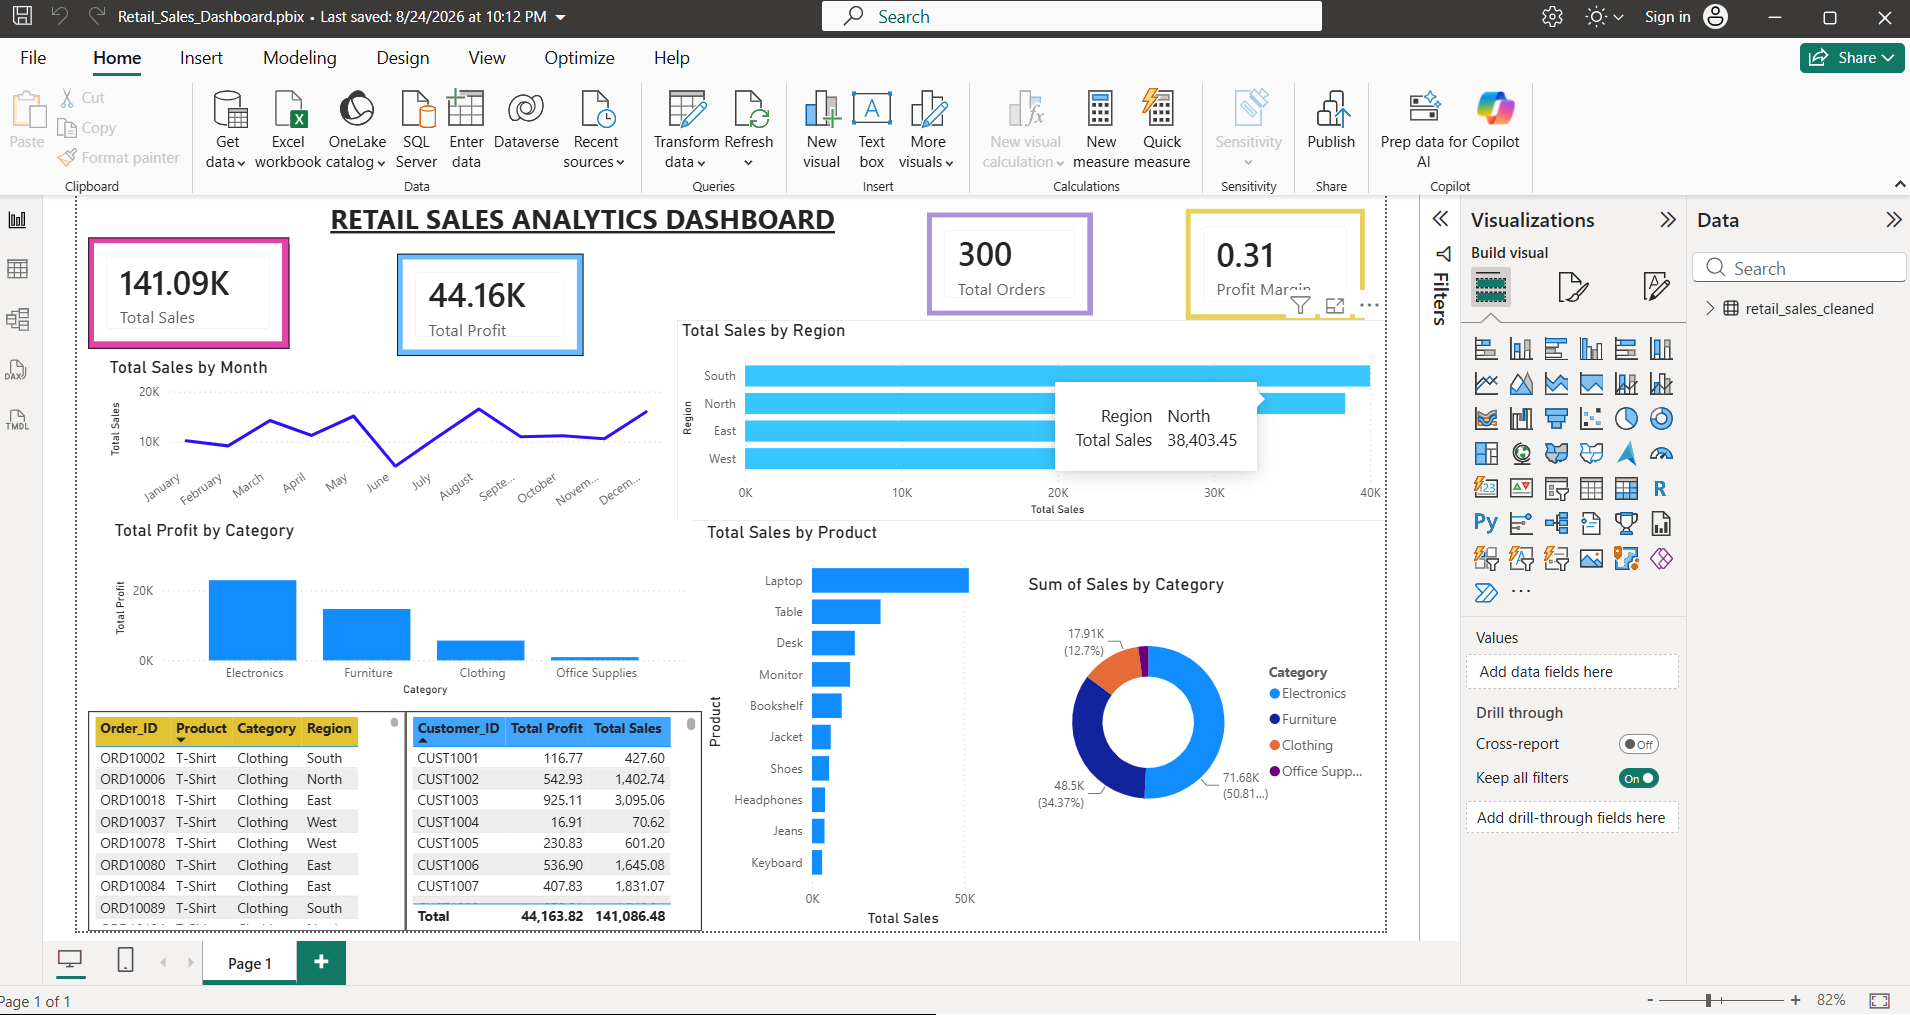

Layout of this report page (visuals, bound fields, positions):
{"tool":"powerbi","page":{"name":"Page 1","canvas":[1280,720],"ordinal":0},"visuals":[{"type":"cardVisual","fields":{"Data":["retail_sales_cleaned.Total Sales"]},"box":[11,41.6,196.9,108.8],"z":0},{"type":"cardVisual","fields":{"Data":["retail_sales_cleaned.Total Profit"]},"box":[313,57.5,182.2,100.3],"z":1000},{"type":"cardVisual","fields":{"Data":["retail_sales_cleaned.Total Orders"]},"box":[831.1,16.7,162.2,101.1],"z":2000},{"type":"cardVisual","fields":{"Data":["retail_sales_cleaned.Profit Margin"]},"box":[1084.4,13.3,175.6,108.9],"z":3000},{"type":"lineChart","fields":{"Category":["retail_sales_cleaned.Order_Date.Variation.Date Hierarchy.Month"],"Y":["retail_sales_cleaned.Total Sales"]},"box":[26.9,157.7,551.5,160.2],"z":4000},{"type":"barChart","fields":{"Category":["retail_sales_cleaned.Product"],"Y":["retail_sales_cleaned.Total Sales"]},"box":[611.4,318.6,301.4,401.4],"z":5000},{"type":"tableEx","fields":{"Values":["retail_sales_cleaned.Customer_ID","retail_sales_cleaned.Total Profit","retail_sales_cleaned.Total Sales"]},"box":[321.6,505,289.8,215.2],"z":6000},{"type":"tableEx","fields":{"Values":["retail_sales_cleaned.Order_ID","retail_sales_cleaned.Product","retail_sales_cleaned.Category","retail_sales_cleaned.Region"]},"box":[11,505,310.6,215.2],"z":7000},{"type":"barChart","fields":{"Category":["retail_sales_cleaned.Region"],"Y":["retail_sales_cleaned.Total Sales"]},"box":[586.7,122.2,693.3,196.7],"z":8000},{"type":"columnChart","fields":{"Category":["retail_sales_cleaned.Category"],"Y":["retail_sales_cleaned.Total Profit"]},"box":[31.8,317.9,571.1,177.3],"z":9000},{"type":"textbox","box":[207.9,0,573.5,47.7],"z":10000},{"type":"donutChart","fields":{"Y":["Sum(retail_sales_cleaned.Sales)"],"Category":["retail_sales_cleaned.Category"]},"box":[925.7,370.5,346.1,270.2],"z":11000}]}

Visuals, with their boxes on the page's 1280x720 design canvas (x1, y1, x2, y2). These are canvas units, not pixel positions in the 1910x1015 screenshot, which may show the page scaled, cropped or inside an application window:
cardVisual - retail_sales_cleaned.Total Sales: [x1=11, y1=42, x2=208, y2=150]
cardVisual - retail_sales_cleaned.Total Profit: [x1=313, y1=58, x2=495, y2=158]
cardVisual - retail_sales_cleaned.Total Orders: [x1=831, y1=17, x2=993, y2=118]
cardVisual - retail_sales_cleaned.Profit Margin: [x1=1084, y1=13, x2=1260, y2=122]
lineChart - retail_sales_cleaned.Order_Date.Variation.Date Hierarchy.Month x retail_sales_cleaned.Total Sales: [x1=27, y1=158, x2=578, y2=318]
barChart - retail_sales_cleaned.Product x retail_sales_cleaned.Total Sales: [x1=611, y1=319, x2=913, y2=720]
tableEx - retail_sales_cleaned.Customer_ID x retail_sales_cleaned.Total Profit: [x1=322, y1=505, x2=611, y2=720]
tableEx - retail_sales_cleaned.Order_ID x retail_sales_cleaned.Product: [x1=11, y1=505, x2=322, y2=720]
barChart - retail_sales_cleaned.Region x retail_sales_cleaned.Total Sales: [x1=587, y1=122, x2=1280, y2=319]
columnChart - retail_sales_cleaned.Category x retail_sales_cleaned.Total Profit: [x1=32, y1=318, x2=603, y2=495]
textbox: [x1=208, y1=0, x2=781, y2=48]
donutChart - Sum(retail_sales_cleaned.Sales) x retail_sales_cleaned.Category: [x1=926, y1=370, x2=1272, y2=641]
